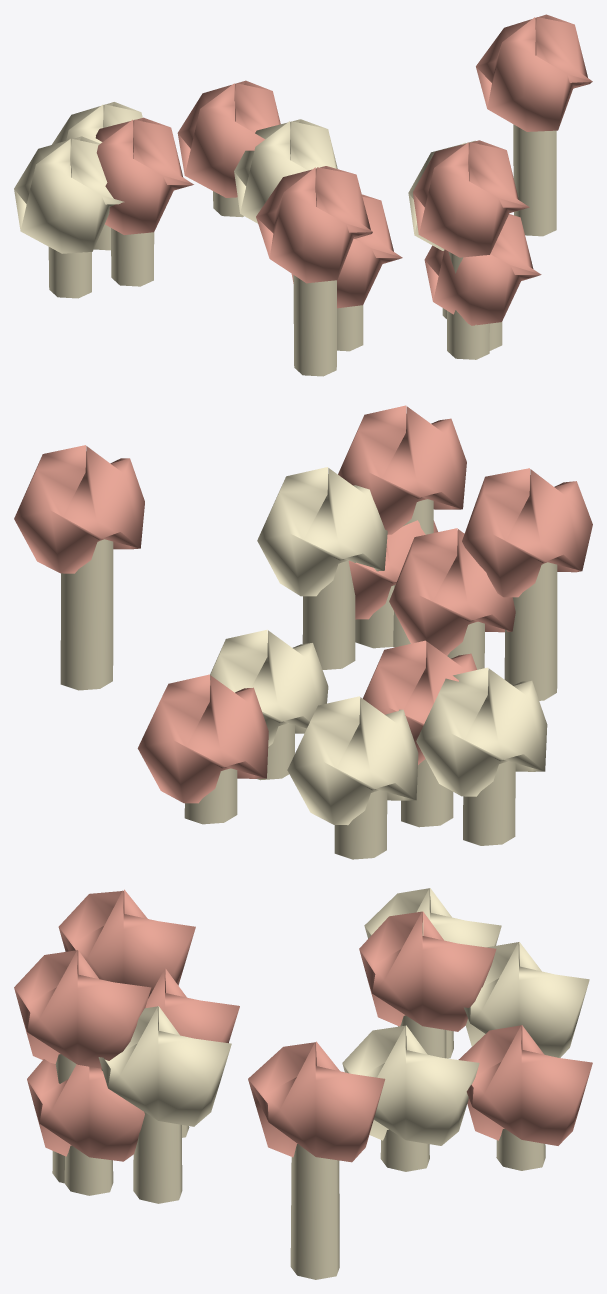
The model's file is mushroom_cluster.glb.
3 views of the same model, one above another, from view 1: azimuth 30°, elevation 25°; view 2: azimuth 150°, elevation 25°; view 3: azimuth 270°, elevation 25° (orthographic). The views are drawn at different scales.
Visible parts, largest first — view 1: mushroom_cluster; view 2: mushroom_cluster; view 3: mushroom_cluster.
Part boxes in pixels (x1,y1,x2,y2): mushroom_cluster: (14, 14, 592, 376); mushroom_cluster: (14, 405, 592, 859); mushroom_cluster: (14, 888, 592, 1279).
Bounding box in the file's own units: 1.41 × 0.5485 × 1.26.
